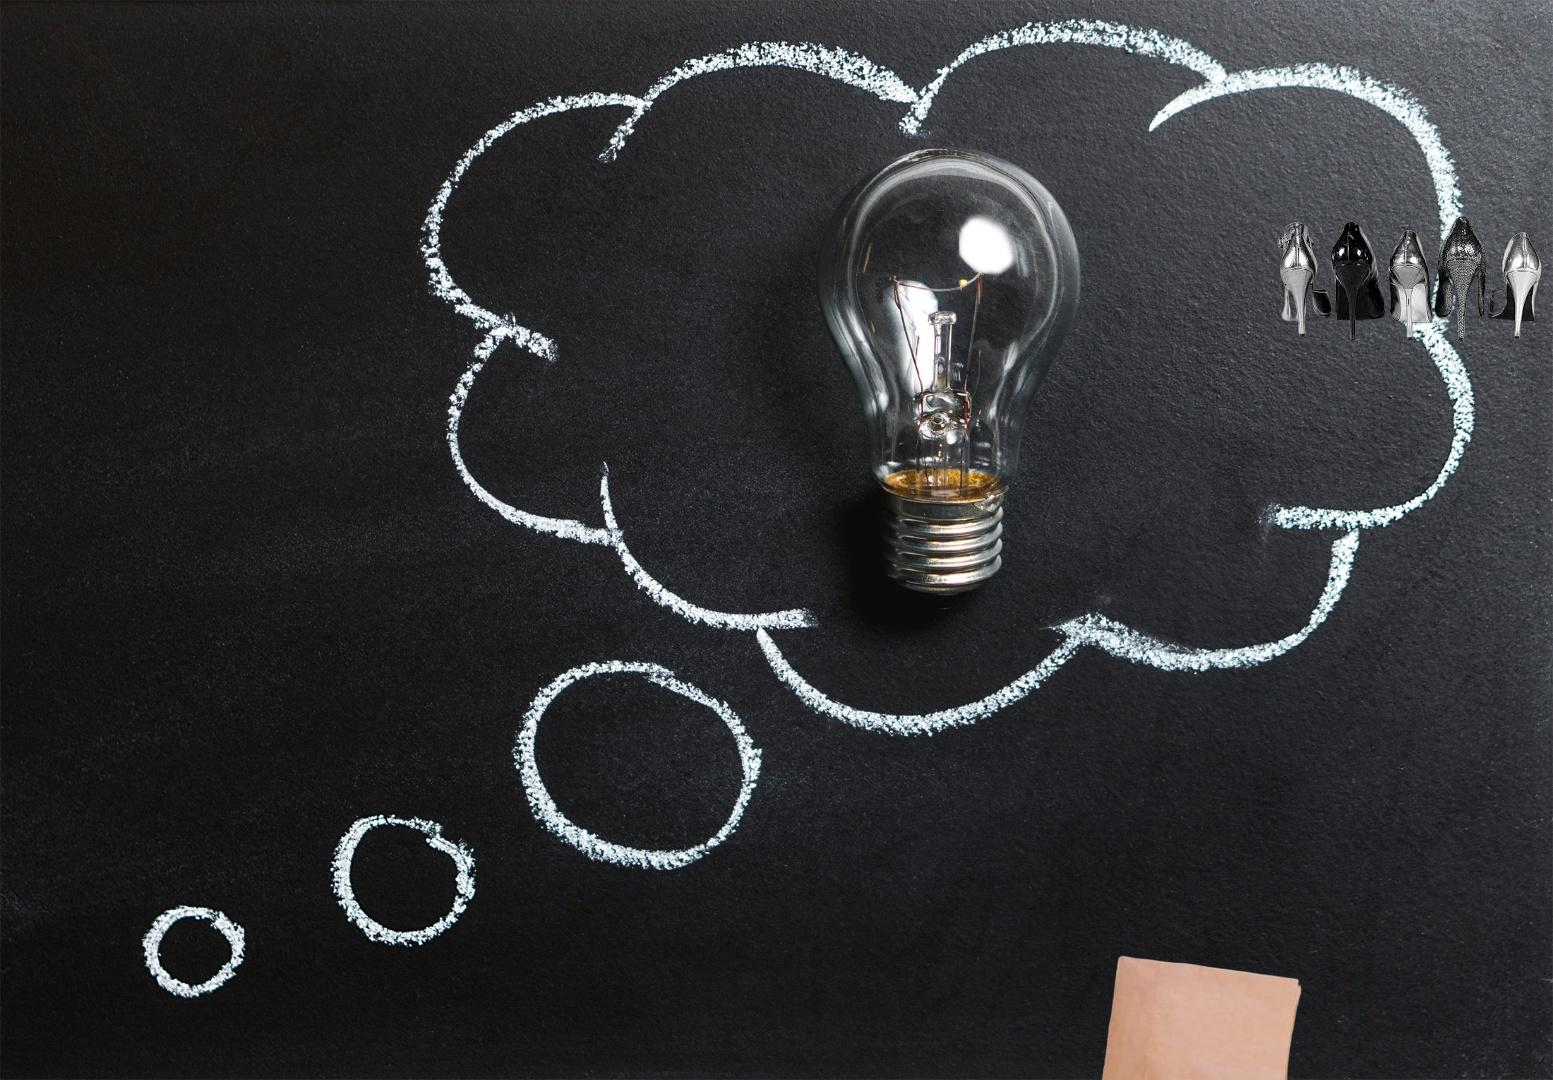paper-bag: (1097, 953, 1305, 1080)
shoes: (1276, 214, 1544, 343)
